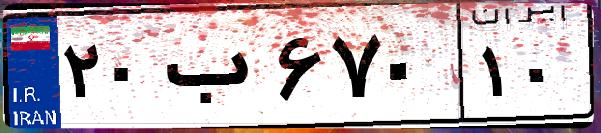0: (385, 28, 445, 110), (525, 38, 570, 115), (110, 28, 158, 98)
1: (475, 38, 525, 113)
2: (57, 26, 110, 100)
6: (270, 28, 330, 110)
7: (330, 28, 385, 110)
ب: (158, 20, 270, 120)
